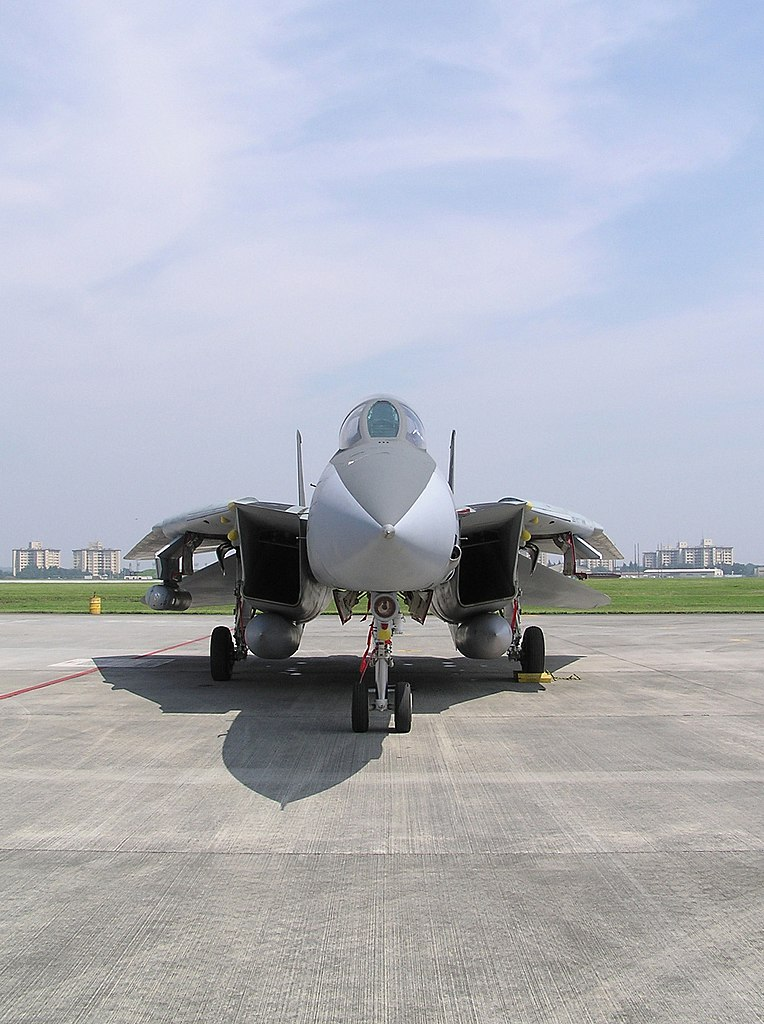F14: (121, 393, 628, 732)
